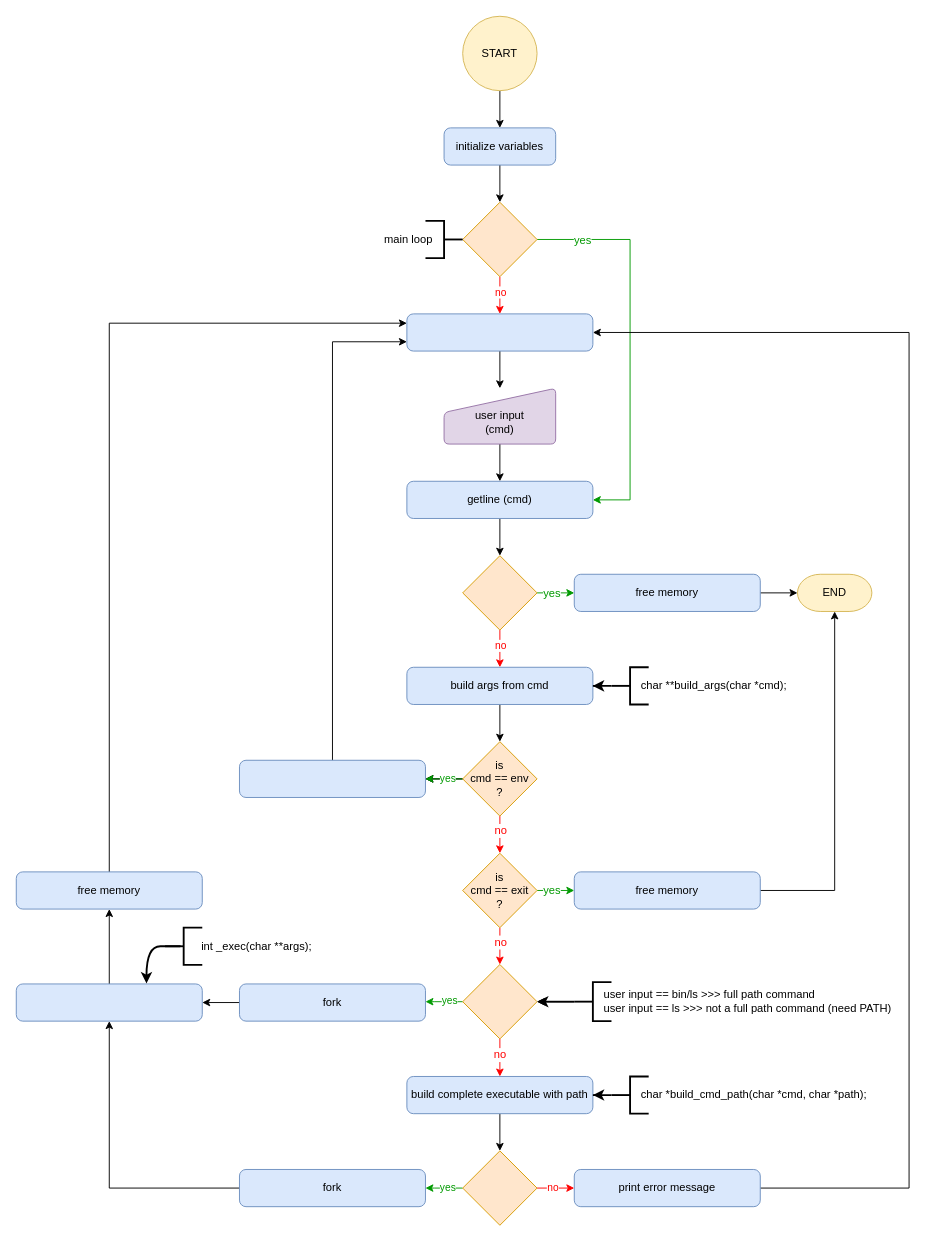
The diagram is 944 pixels wide and 1242 high, and some of its shapes have lost their labels. Here are the shapes that lost their labels. From the top down, the box of each, then its label:
(462, 201, 537, 277): is program running in background ?
(406, 313, 593, 351): display prompt @username:current_directory $
(462, 555, 537, 630): is EOF reached ?
(239, 759, 425, 797): dispplay environment variables
(15, 983, 202, 1021): execute the command with _exec
(462, 964, 537, 1039): is user input a full path cmd ?
(462, 1150, 537, 1225): is cmd in PATH ?
